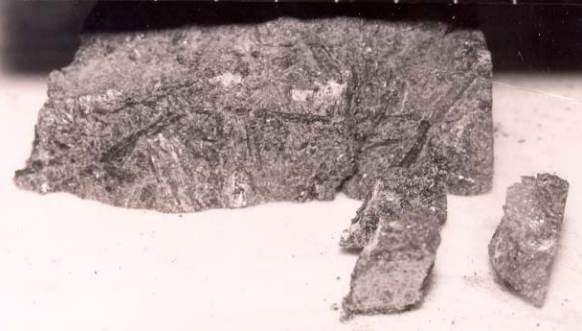Basalt: (25, 17, 496, 183), (374, 144, 440, 316), (511, 163, 560, 305)
